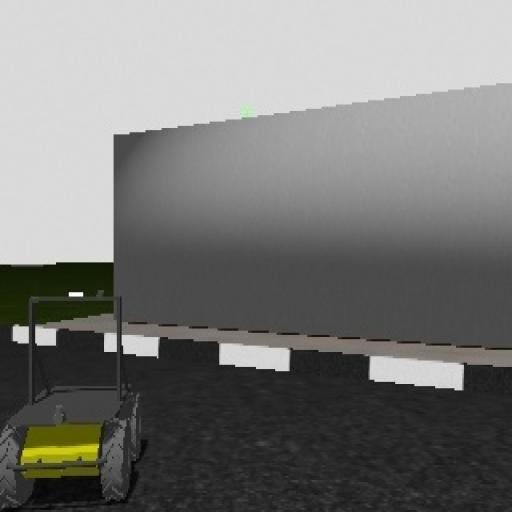huskya200: (0, 281, 149, 503)
